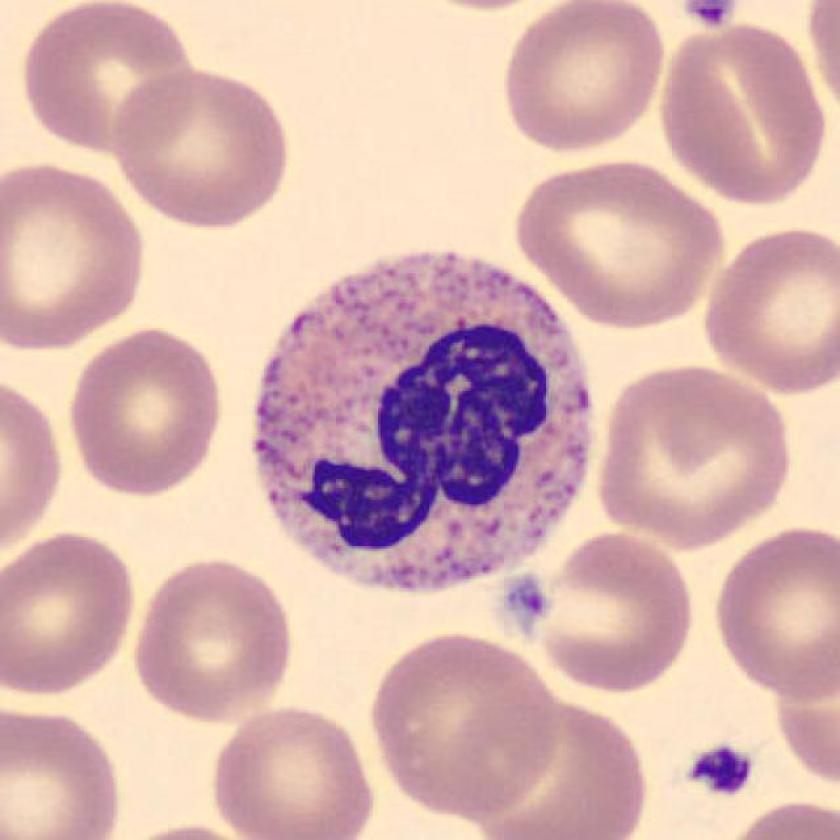neutrophil: (257, 254, 593, 588)
